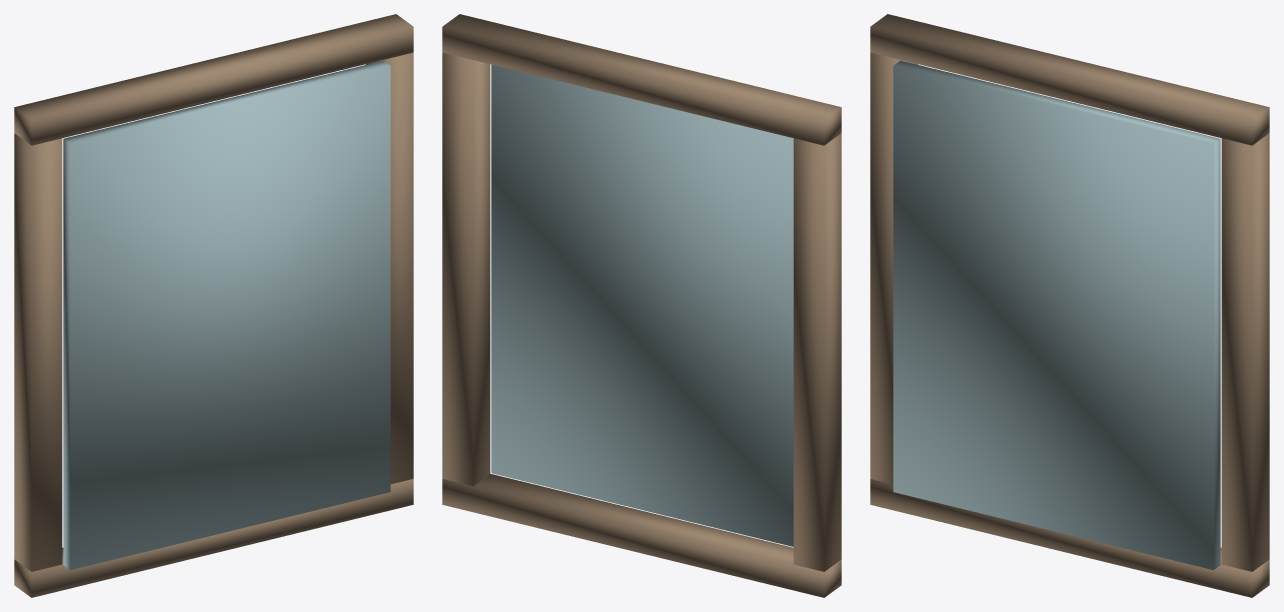
The model's file is mirror__wide.glb.
3 views of the same model, side by side, from view 1: azimuth 30°, elevation 25°; view 2: azimuth 150°, elevation 25°; view 3: azimuth 330°, elevation 25° (orthographic).
Parts seen in each view (by area): view 1: world; view 2: world; view 3: world.
Part boxes in pixels (bbox=[...]): world: bbox=[14, 14, 413, 597]; world: bbox=[442, 14, 841, 597]; world: bbox=[870, 14, 1269, 597].
Bounding box in the file's own units: 0.7688 × 0.92 × 0.0875.
